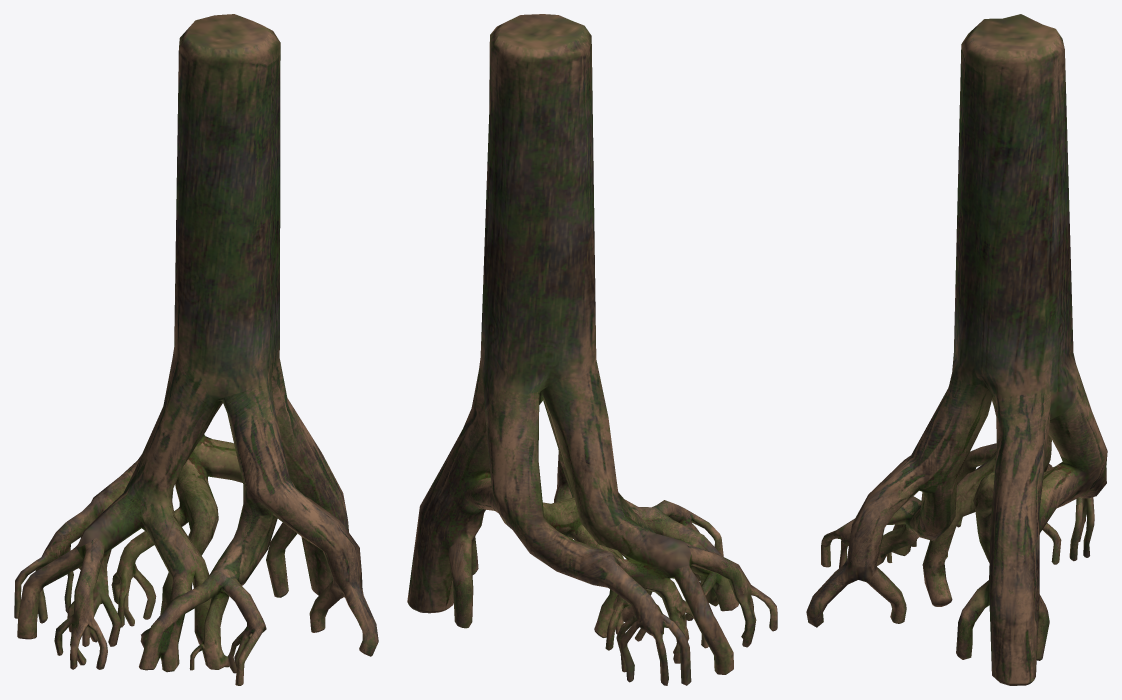
Rendered from mangrove_tree_roots.glb.
3 renders of one model, left to right at view 1: azimuth 30°, elevation 25°; view 2: azimuth 150°, elevation 25°; view 3: azimuth 270°, elevation 25°, orthographic. The views are drawn at different scales.
Parts seen in each view (by area): view 1: tree:polySurface1; view 2: tree:polySurface1; view 3: tree:polySurface1.
Boxes of the visible parts, box(x1,y1,x2,y2) form: tree:polySurface1: box(14, 14, 378, 685); tree:polySurface1: box(407, 14, 777, 685); tree:polySurface1: box(806, 14, 1107, 685).
Size of the model in its own units: 0.1547 by 0.2705 by 0.1233.
1 material, 1 textured.
